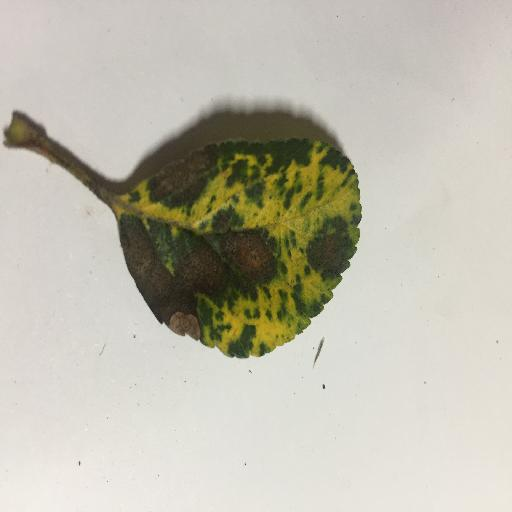Brown_Spot: (114, 128, 276, 362), (302, 211, 358, 280)
